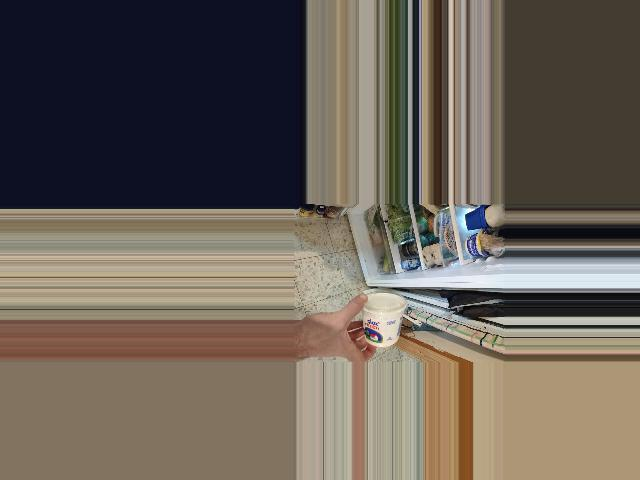cotage: (364, 292, 404, 351)
